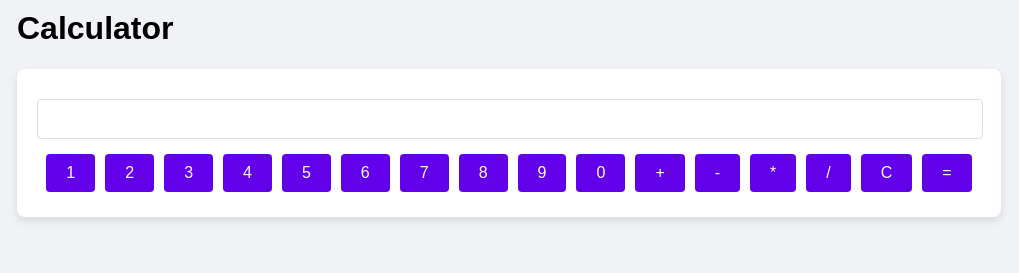
Test: Calculator Component › calculates result and displays it
Click the button "4": [247, 173] box [223, 154, 272, 192]
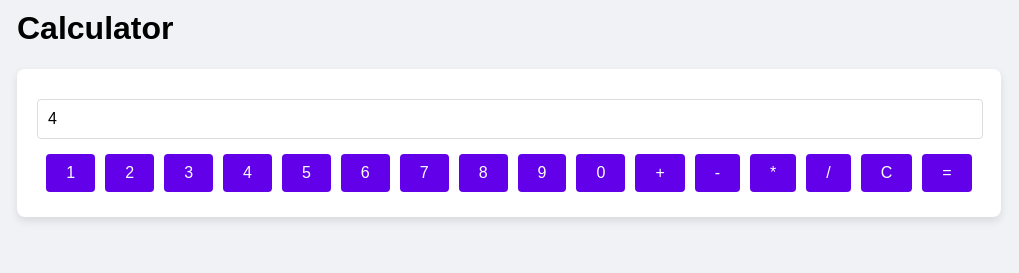
Click the button "2": [130, 173] box [105, 154, 154, 192]
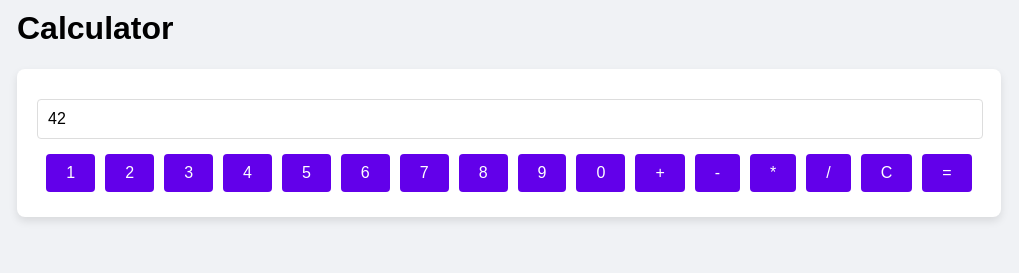
Click the button "=": [947, 173] box [922, 154, 972, 192]
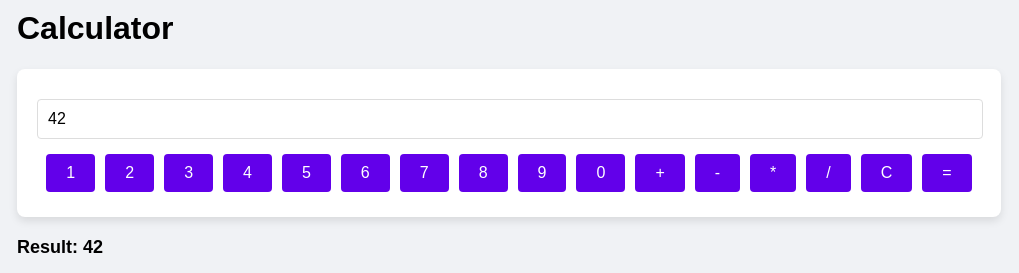
Expected: the text "Result: 42" is shown, [17, 237, 103, 257]
